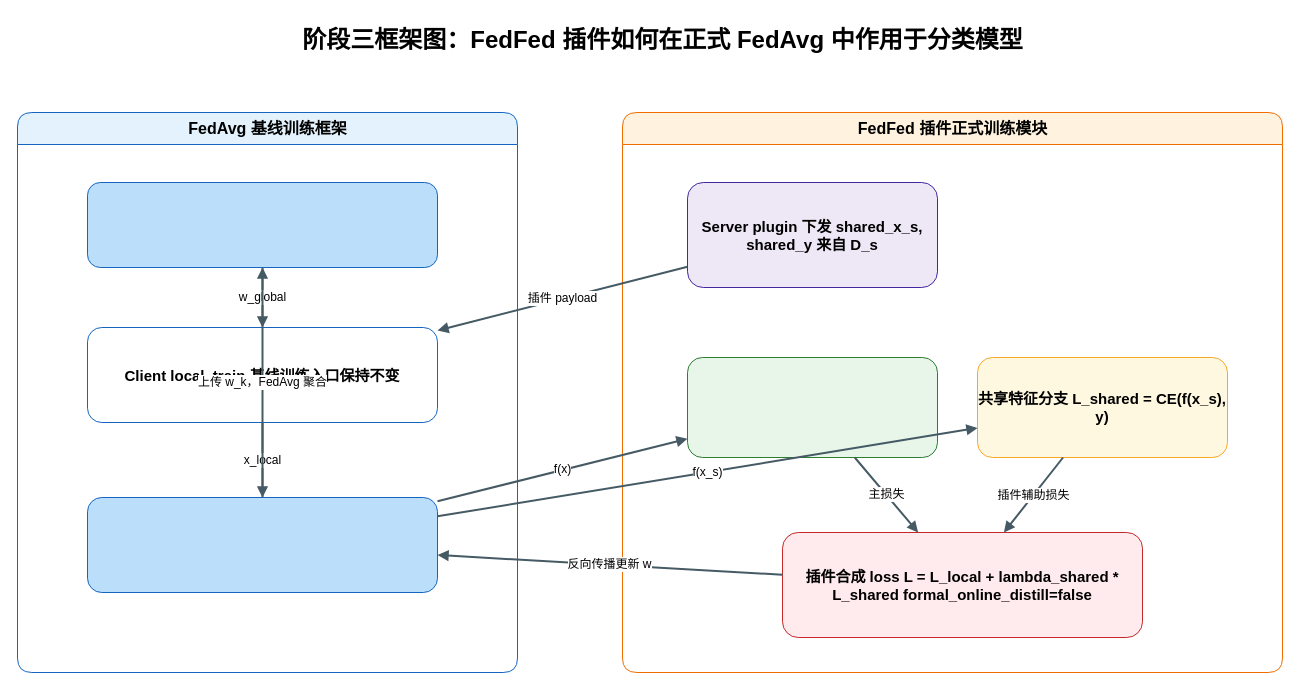
Some shapes in this 1300 by 690 pixel diagram are drawn without their labels. Here are the shapes that lost their labels. From the top down, the centre of each, then its label:
[262,225]: Server 广播全局分类器 w
[812,407]: 本地原图分支 L_local = CE(f(x), y)
[262,544]: 分类器 f(.; w) 仍然是同一个 ResNet18
